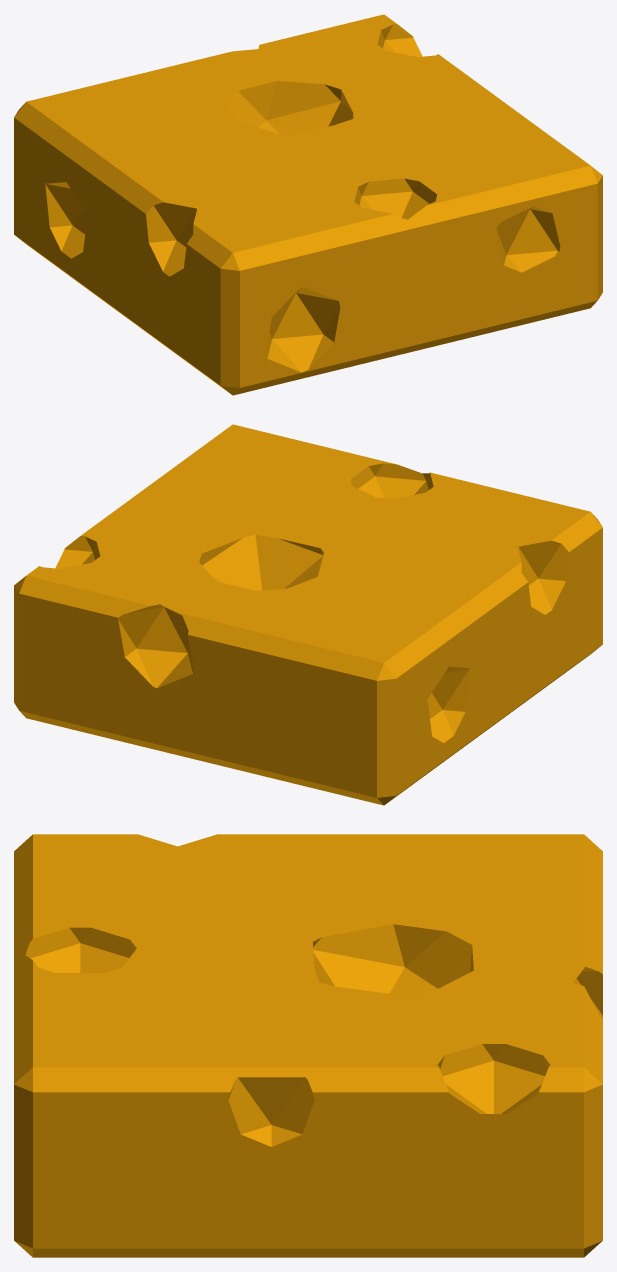
The model's file is swissCheeseBlock.glb.
The picture shows the model from 3 angles, top to bottom: view 1: azimuth 30°, elevation 25°; view 2: azimuth 150°, elevation 25°; view 3: azimuth 270°, elevation 25°; orthographic projection. The views are drawn at different scales.
Visible parts, largest first — view 1: swissCheeseBlock; view 2: swissCheeseBlock; view 3: swissCheeseBlock.
Boxes of the visible parts, box(x1,y1,x2,y2) form: swissCheeseBlock: box(14, 14, 602, 395); swissCheeseBlock: box(14, 424, 602, 805); swissCheeseBlock: box(14, 834, 602, 1257).
Size of the model in its own units: 0.1251 by 0.0446 by 0.1251.
